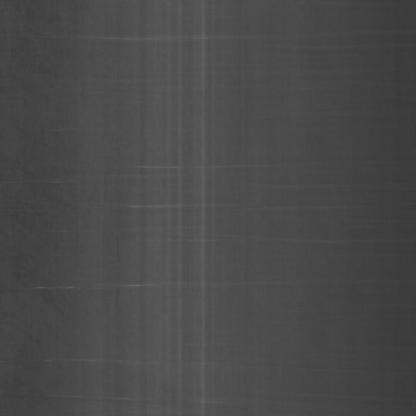waist_folding: (102, 14, 229, 415)
